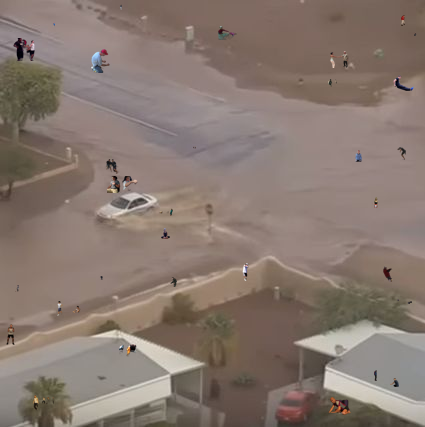Human: (107, 176, 138, 193), (13, 38, 35, 61), (324, 397, 351, 415), (90, 49, 110, 73), (31, 395, 55, 412), (57, 301, 81, 316), (330, 51, 351, 68), (393, 75, 414, 91), (218, 26, 237, 40), (119, 344, 137, 357), (105, 159, 119, 174), (383, 266, 396, 282), (6, 324, 15, 345), (242, 263, 249, 281), (397, 147, 406, 160), (159, 208, 173, 216), (161, 228, 170, 239), (355, 150, 362, 162), (390, 378, 399, 387), (397, 299, 412, 304), (328, 79, 337, 87), (170, 277, 177, 287), (372, 197, 378, 208), (401, 15, 405, 26), (374, 370, 377, 381), (15, 285, 19, 292), (193, 146, 199, 149), (120, 4, 122, 10), (414, 32, 417, 36), (100, 276, 103, 280), (53, 22, 55, 27)
